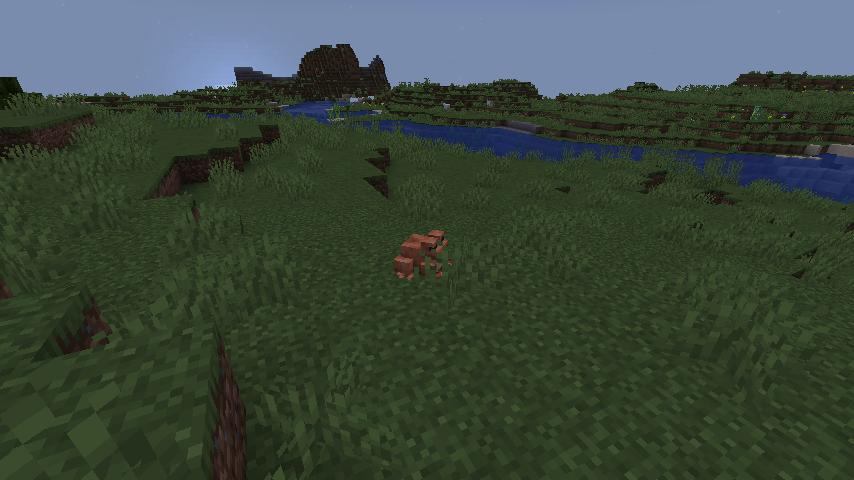frog: (388, 226, 459, 282)
